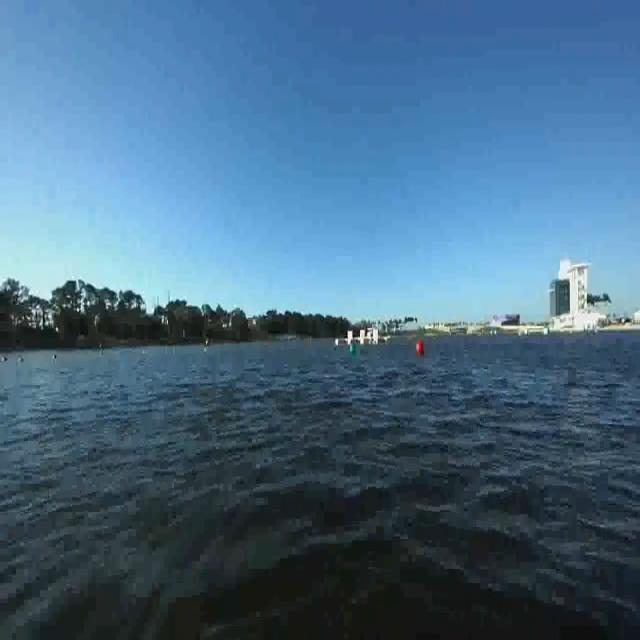green-buoy: (348, 347, 357, 359)
red-buoy: (417, 341, 424, 356)
